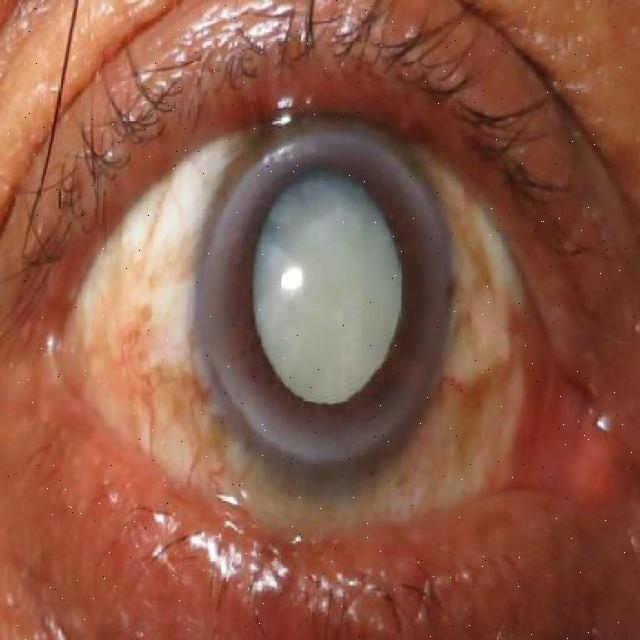Cataract: (196, 121, 454, 468)
